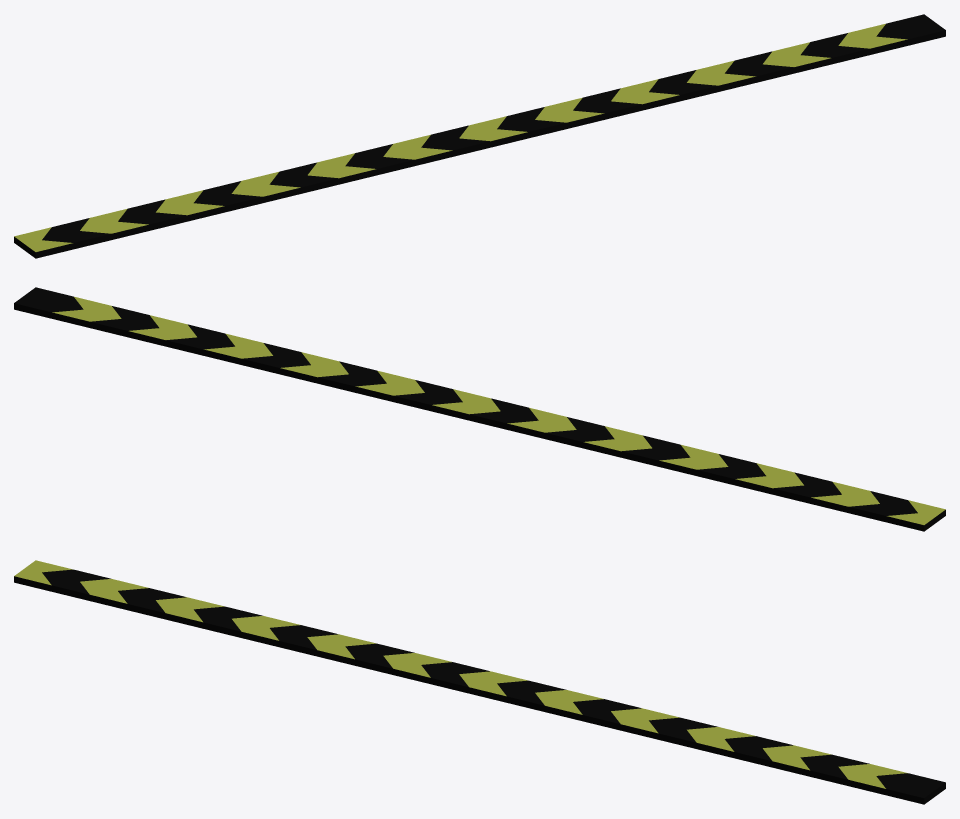
The model's file is Road.fbx.
3 views of the same model, one above another, from view 1: azimuth 30°, elevation 25°; view 2: azimuth 150°, elevation 25°; view 3: azimuth 330°, elevation 25° (orthographic).
Parts seen in each view (by area): view 1: Cube.001; view 2: Cube.001; view 3: Cube.001.
Boxes of the visible parts, x1,y1,x2,y2 form: Cube.001: (14,14,945,258); Cube.001: (14,287,945,531); Cube.001: (14,560,945,804).
Size of the model in its own units: 4838 by 32.5 by 200.
